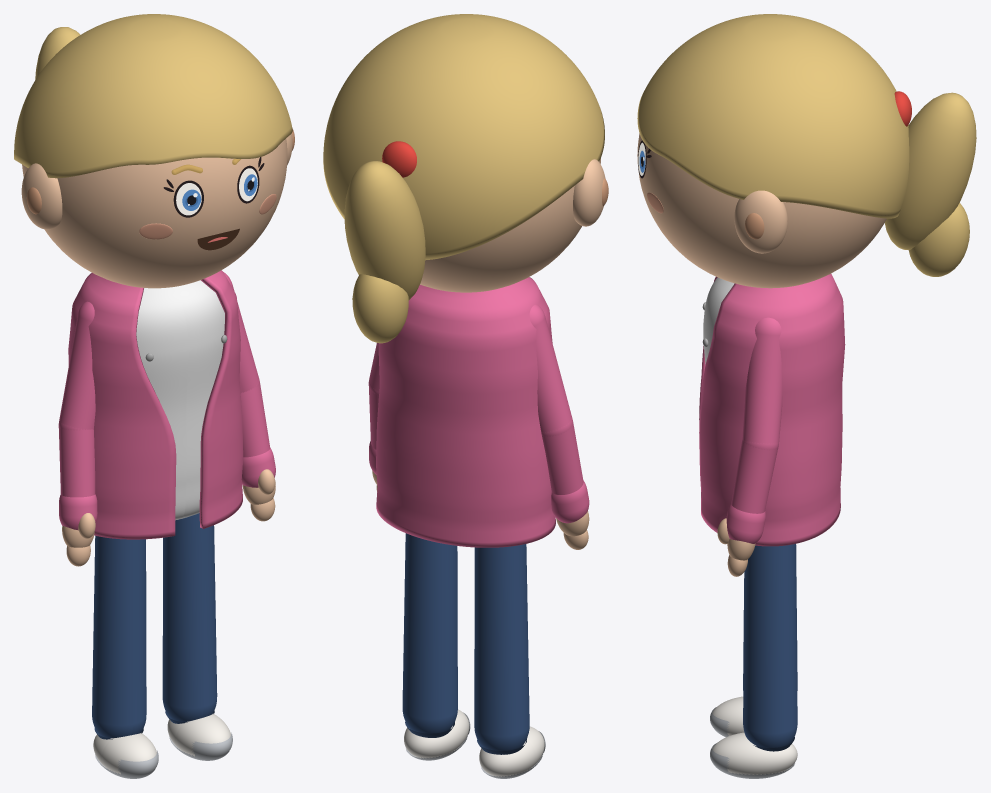
The model's file is moeder_kinderwagen.glb.
3 renders of one model, left to right at view 1: azimuth 30°, elevation 25°; view 2: azimuth 150°, elevation 25°; view 3: azimuth 270°, elevation 25°, orthographic.
Parts seen in each view (by area): view 1: moeder_kinderwagen_haar, moeder_kinderwagen_jas, moeder_kinderwagen_hoofd, moeder_kinderwagen_romp, moeder_kinderwagen_been_R, moeder_kinderwagen_been_L, moeder_kinderwagen_bovenarm_R, moeder_kinderwagen_onderarm_R, moeder_kinderwagen_oor_R, moeder_kinderwagen_schoen_R, moeder_kinderwagen_onderarm_L, moeder_kinderwagen_schoen_L (+7 smaller); view 2: moeder_kinderwagen_haar, moeder_kinderwagen_jas, moeder_kinderwagen_been_R, moeder_kinderwagen_been_L, moeder_kinderwagen_staart, moeder_kinderwagen_hoofd, moeder_kinderwagen_staart_punt, moeder_kinderwagen_bovenarm_R, moeder_kinderwagen_onderarm_R, moeder_kinderwagen_schoen_R, moeder_kinderwagen_oor_R, moeder_kinderwagen_schoen_L (+2 smaller); view 3: moeder_kinderwagen_haar, moeder_kinderwagen_jas, moeder_kinderwagen_hoofd, moeder_kinderwagen_been_L, moeder_kinderwagen_staart, moeder_kinderwagen_bovenarm_L, moeder_kinderwagen_staart_punt, moeder_kinderwagen_onderarm_L, moeder_kinderwagen_oor_L, moeder_kinderwagen_schoen_L, moeder_kinderwagen_manchet_L, moeder_kinderwagen_romp (+1 smaller).
Part boxes in pixels (bbox=[...]): moeder_kinderwagen_haar: bbox=[14, 14, 292, 178]; moeder_kinderwagen_jas: bbox=[68, 270, 243, 539]; moeder_kinderwagen_hoofd: bbox=[22, 138, 287, 288]; moeder_kinderwagen_romp: bbox=[136, 280, 224, 520]; moeder_kinderwagen_been_R: bbox=[92, 535, 146, 738]; moeder_kinderwagen_been_L: bbox=[162, 513, 217, 722]; moeder_kinderwagen_bovenarm_R: bbox=[59, 301, 95, 430]; moeder_kinderwagen_onderarm_R: bbox=[58, 424, 95, 497]; moeder_kinderwagen_oor_R: bbox=[21, 163, 62, 229]; moeder_kinderwagen_schoen_R: bbox=[93, 733, 156, 774]; moeder_kinderwagen_onderarm_L: bbox=[240, 383, 270, 457]; moeder_kinderwagen_schoen_L: bbox=[167, 713, 230, 756]; moeder_kinderwagen_haar: bbox=[323, 14, 604, 260]; moeder_kinderwagen_jas: bbox=[376, 277, 555, 547]; moeder_kinderwagen_been_R: bbox=[474, 544, 529, 750]; moeder_kinderwagen_been_L: bbox=[402, 533, 457, 733]; moeder_kinderwagen_staart: bbox=[344, 161, 425, 300]; moeder_kinderwagen_hoofd: bbox=[420, 158, 600, 292]; moeder_kinderwagen_staart_punt: bbox=[352, 274, 408, 343]; moeder_kinderwagen_bovenarm_R: bbox=[529, 304, 572, 435]; moeder_kinderwagen_onderarm_R: bbox=[542, 422, 583, 494]; moeder_kinderwagen_schoen_R: bbox=[479, 726, 544, 776]; moeder_kinderwagen_oor_R: bbox=[573, 159, 605, 226]; moeder_kinderwagen_schoen_L: bbox=[404, 709, 469, 758]; moeder_kinderwagen_haar: bbox=[637, 14, 909, 218]; moeder_kinderwagen_jas: bbox=[699, 274, 845, 546]; moeder_kinderwagen_hoofd: bbox=[637, 133, 886, 288]; moeder_kinderwagen_been_L: bbox=[743, 544, 797, 747]; moeder_kinderwagen_staart: bbox=[885, 92, 976, 249]; moeder_kinderwagen_bovenarm_L: bbox=[742, 317, 782, 449]; moeder_kinderwagen_staart_punt: bbox=[908, 203, 969, 276]; moeder_kinderwagen_onderarm_L: bbox=[731, 440, 778, 513]; moeder_kinderwagen_oor_L: bbox=[734, 190, 787, 253]; moeder_kinderwagen_schoen_L: bbox=[712, 732, 797, 774]; moeder_kinderwagen_manchet_L: bbox=[726, 503, 765, 543]; moeder_kinderwagen_romp: bbox=[703, 277, 734, 364].
Size of the model in its own units: 0.668 by 1.77 by 0.7425.
